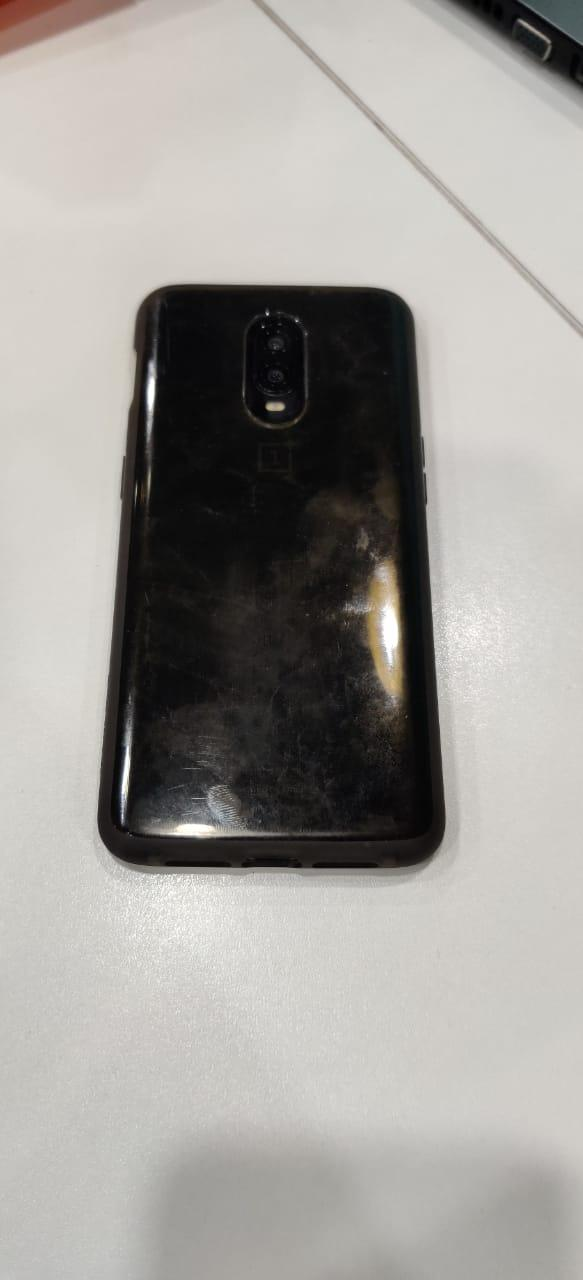Phone: (75, 265, 461, 894)
